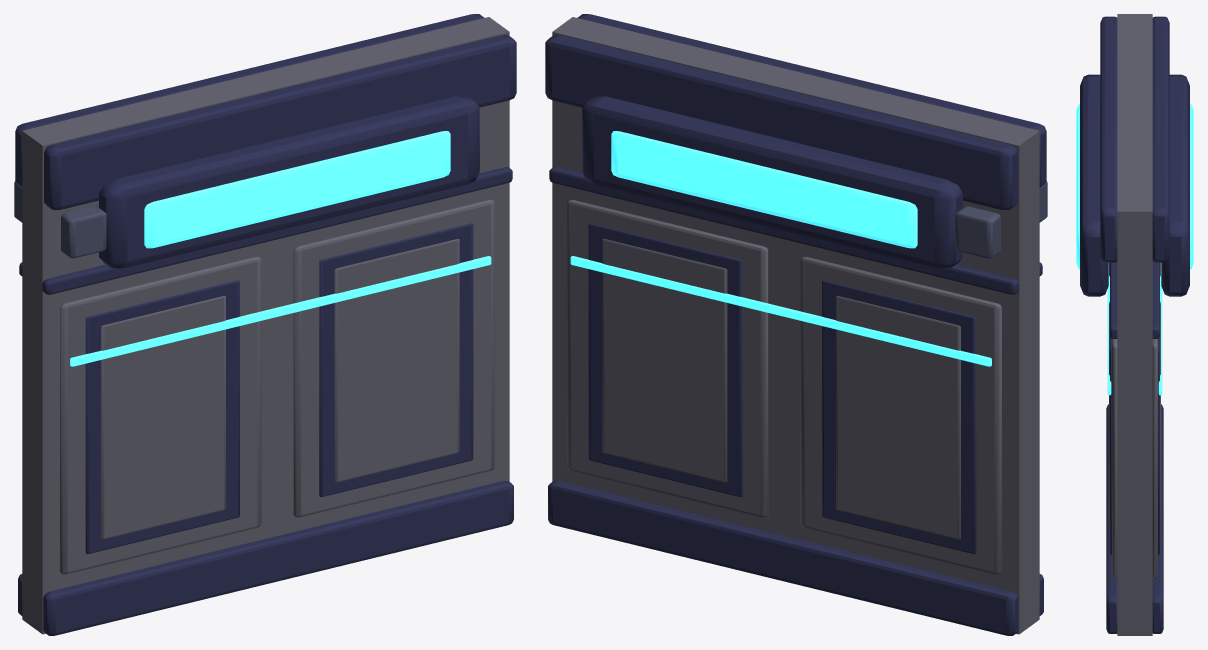
Rendered from wall.straight.a.glb.
3 renders of one model, left to right at view 1: azimuth 30°, elevation 25°; view 2: azimuth 150°, elevation 25°; view 3: azimuth 270°, elevation 25°, orthographic. The views are drawn at different scales.
Visible parts, largest first — view 1: GEO-wall.straight.a; view 2: GEO-wall.straight.a; view 3: GEO-wall.straight.a.
Part boxes in pixels (x1,y1,x2,y2): GEO-wall.straight.a: (14, 14, 516, 635); GEO-wall.straight.a: (545, 14, 1047, 635); GEO-wall.straight.a: (1076, 14, 1193, 635).
Bounding box in the file's own units: 1 × 1 × 0.25.
